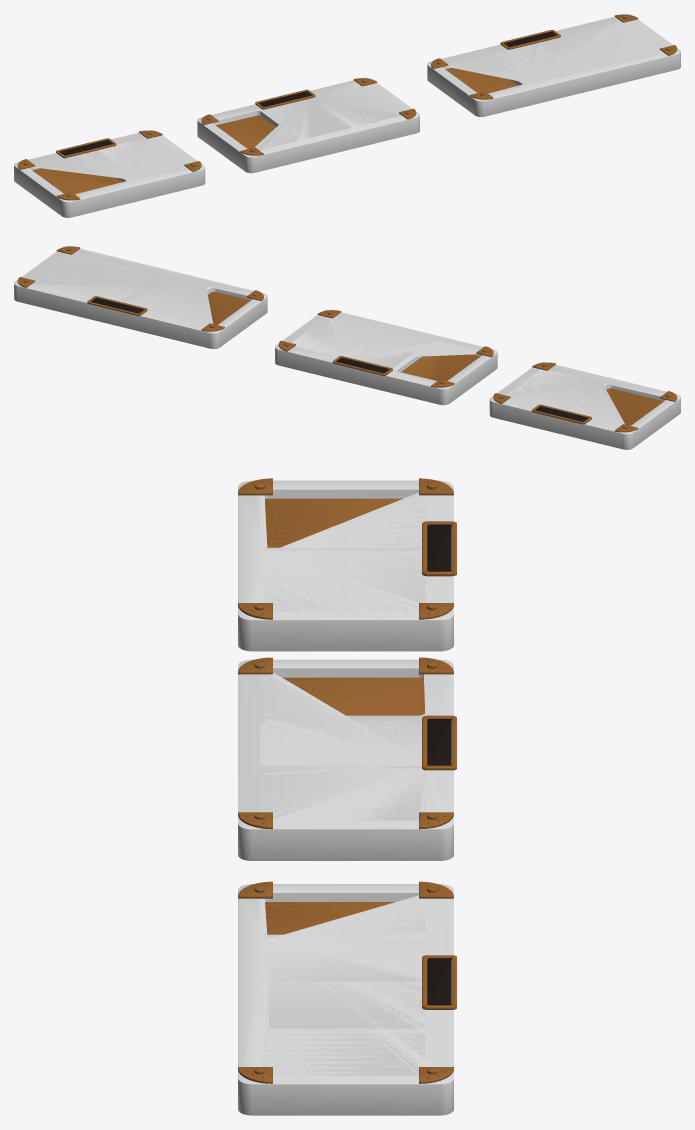
File: trays.fbx
3 views of the same model, one above another, from view 1: azimuth 30°, elevation 25°; view 2: azimuth 150°, elevation 25°; view 3: azimuth 270°, elevation 25° (orthographic). The views are drawn at different scales.
Parts seen in each view (by area): view 1: CG_Tray_Match3D_4Slot_Body, CG_Tray_Match3D_3Slot_Body, CG_Tray_Match3D_2Slot_Body, CG_Tray_Match3D_2Slot, CG_Tray_Match3D_3Slot, CG_Tray_Match3D_4Slot, CG_Tray_Match3D_3Slot_PlaqueFrame, CG_Tray_Match3D_2Slot_PlaqueFrame, CG_Tray_Match3D_4Slot_PlaqueFrame; view 2: CG_Tray_Match3D_4Slot_Body, CG_Tray_Match3D_3Slot_Body, CG_Tray_Match3D_2Slot_Body, CG_Tray_Match3D_3Slot, CG_Tray_Match3D_2Slot, CG_Tray_Match3D_4Slot, CG_Tray_Match3D_2Slot_PlaqueFrame, CG_Tray_Match3D_4Slot_PlaqueFrame, CG_Tray_Match3D_3Slot_PlaqueFrame; view 3: CG_Tray_Match3D_4Slot_Body, CG_Tray_Match3D_3Slot_Body, CG_Tray_Match3D_2Slot_Body, CG_Tray_Match3D_3Slot, CG_Tray_Match3D_2Slot, CG_Tray_Match3D_4Slot, CG_Tray_Match3D_2Slot_PlaqueField, CG_Tray_Match3D_4Slot_PlaqueField, CG_Tray_Match3D_3Slot_PlaqueField.
Part boxes in pixels (<box>): CG_Tray_Match3D_4Slot_Body: <box>427,14,680,116</box>; CG_Tray_Match3D_3Slot_Body: <box>197,77,419,173</box>; CG_Tray_Match3D_2Slot_Body: <box>14,130,205,217</box>; CG_Tray_Match3D_2Slot: <box>17,130,201,200</box>; CG_Tray_Match3D_3Slot: <box>201,78,416,155</box>; CG_Tray_Match3D_4Slot: <box>431,14,677,99</box>; CG_Tray_Match3D_3Slot_PlaqueFrame: <box>255,89,315,109</box>; CG_Tray_Match3D_2Slot_PlaqueFrame: <box>56,138,116,158</box>; CG_Tray_Match3D_4Slot_PlaqueFrame: <box>500,30,560,49</box>; CG_Tray_Match3D_4Slot_Body: <box>14,246,267,348</box>; CG_Tray_Match3D_3Slot_Body: <box>275,309,497,405</box>; CG_Tray_Match3D_2Slot_Body: <box>489,362,680,449</box>; CG_Tray_Match3D_3Slot: <box>278,310,493,387</box>; CG_Tray_Match3D_2Slot: <box>493,362,677,432</box>; CG_Tray_Match3D_4Slot: <box>17,246,263,331</box>; CG_Tray_Match3D_2Slot_PlaqueFrame: <box>531,404,591,424</box>; CG_Tray_Match3D_4Slot_PlaqueFrame: <box>87,296,147,315</box>; CG_Tray_Match3D_3Slot_PlaqueFrame: <box>332,356,392,375</box>; CG_Tray_Match3D_4Slot_Body: <box>238,884,453,1115</box>; CG_Tray_Match3D_3Slot_Body: <box>238,659,453,860</box>; CG_Tray_Match3D_2Slot_Body: <box>238,480,453,651</box>; CG_Tray_Match3D_3Slot: <box>238,657,454,829</box>; CG_Tray_Match3D_2Slot: <box>238,478,454,619</box>; CG_Tray_Match3D_4Slot: <box>238,881,454,1083</box>; CG_Tray_Match3D_2Slot_PlaqueField: <box>427,524,451,571</box>; CG_Tray_Match3D_4Slot_PlaqueField: <box>427,958,451,1005</box>; CG_Tray_Match3D_3Slot_PlaqueField: <box>427,719,451,765</box>.
Size of what is drawn, in the model's own units: 139 by 3.95 by 21.3.
